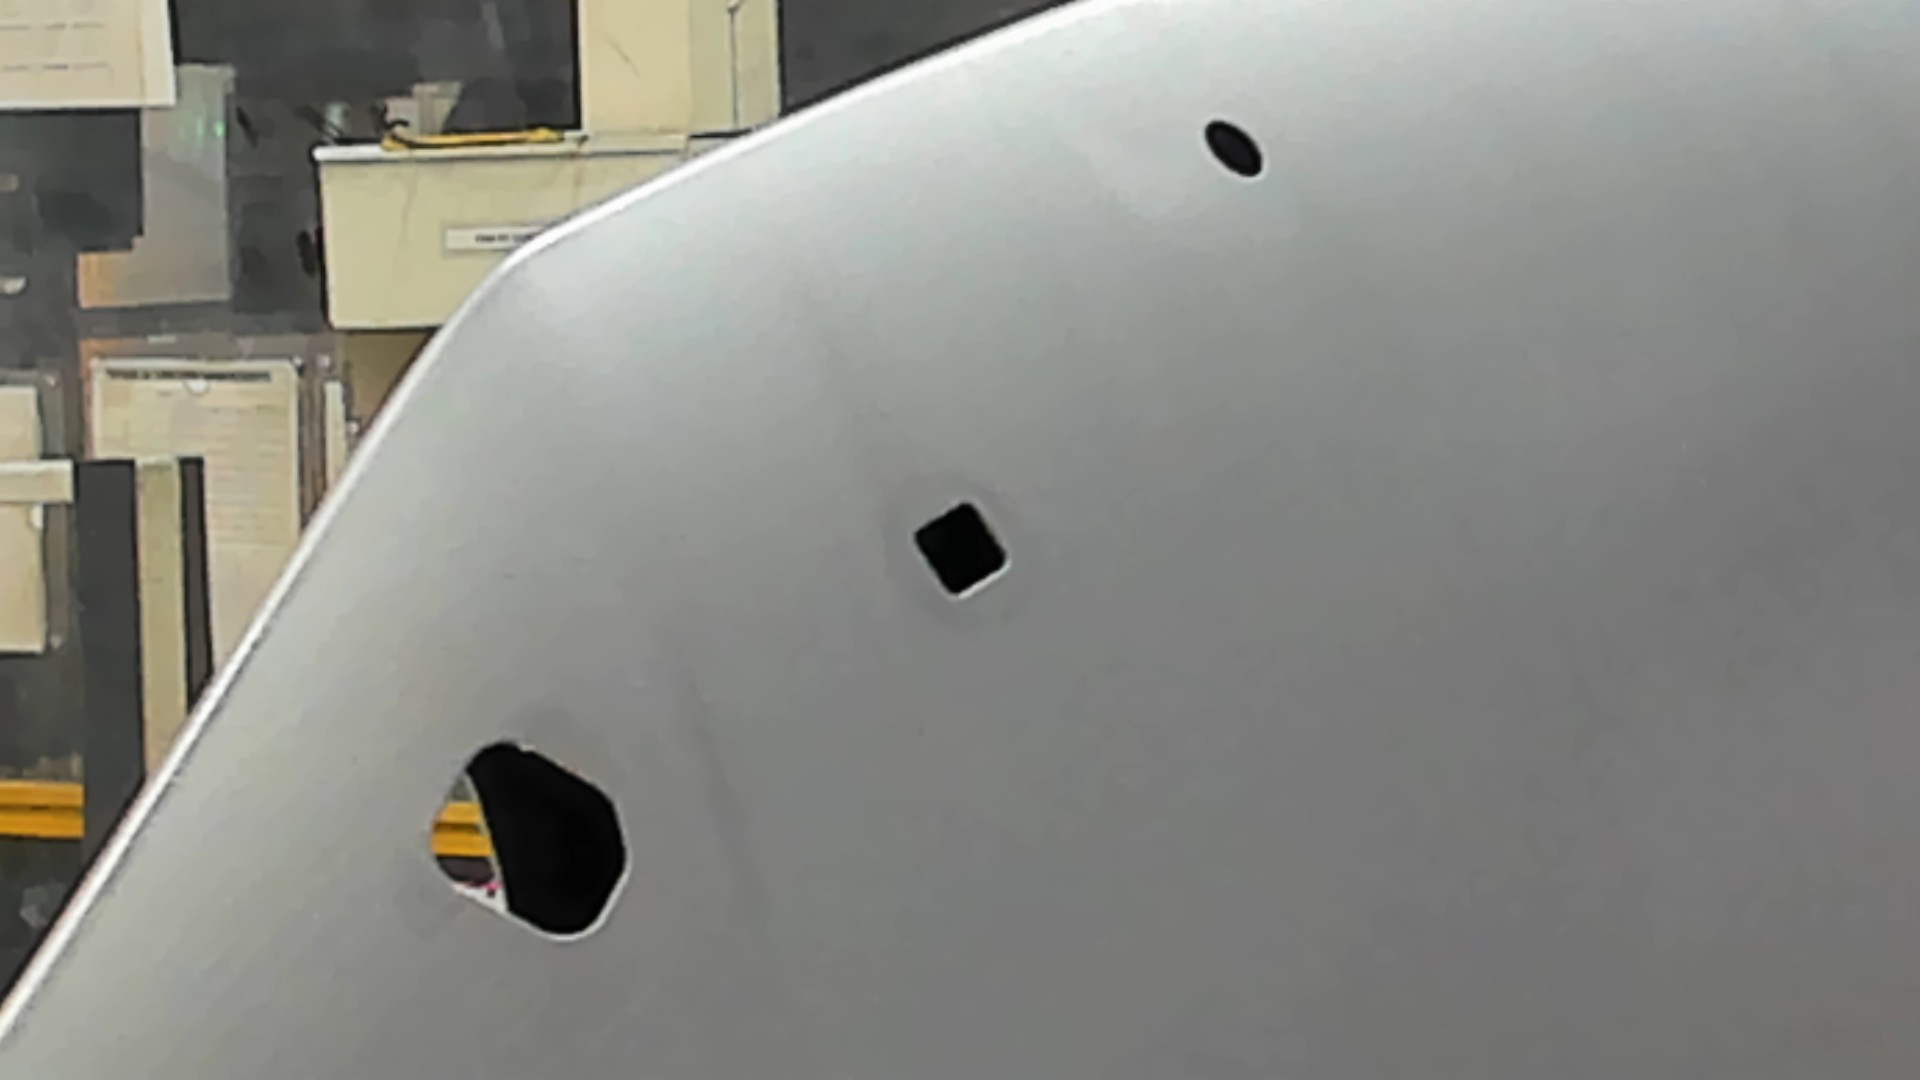Agujero: (913, 501, 1011, 601), (1204, 120, 1266, 179)
Agujerote: (429, 738, 633, 939)
